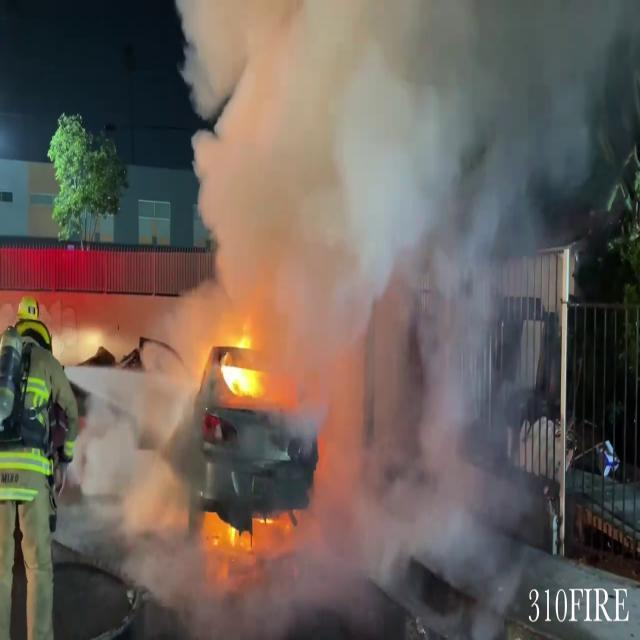Fire: (207, 318, 270, 406)
Smoke: (153, 0, 603, 611)
